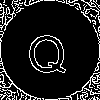Q: (25, 25, 68, 77)
